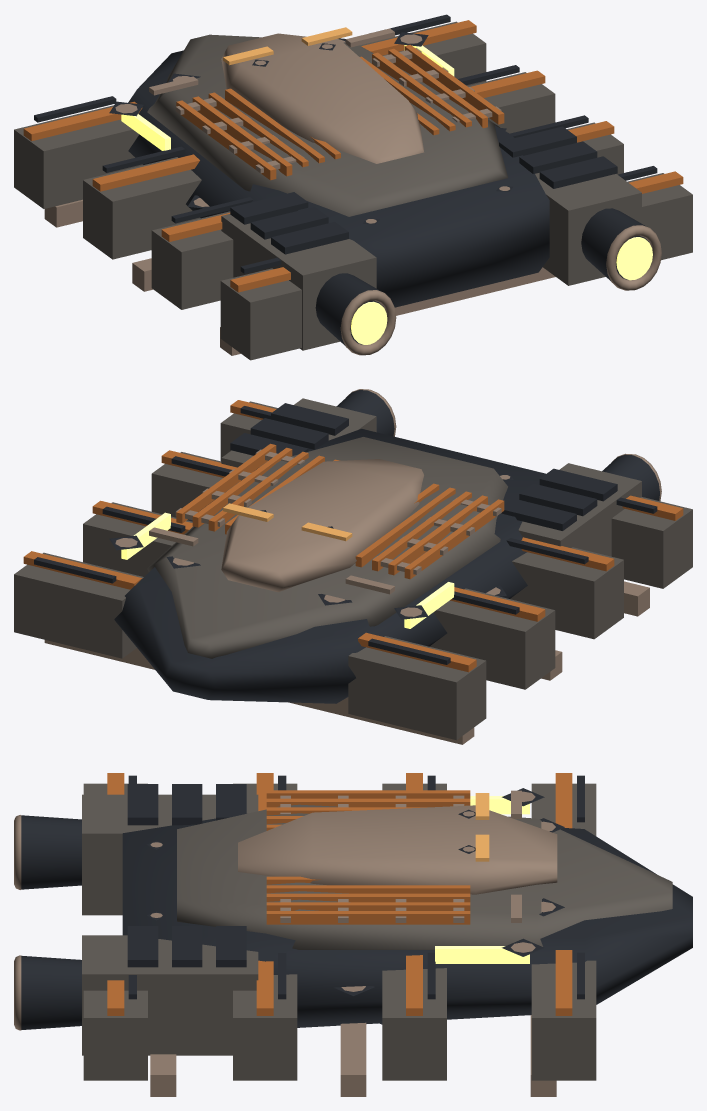
Rendered from compact_high_gravity--bulk_freighter.glb.
3 renders of one model, top to bottom at view 1: azimuth 30°, elevation 25°; view 2: azimuth 150°, elevation 25°; view 3: azimuth 270°, elevation 25°, orthographic. The views are drawn at different scales.
Parts seen in each view (by area): view 1: load_bearing_wedge_1, stepped_main_plate_2, reinforced_command_deck_3, freight_vault_47, freight_vault_50, armored_drive_block_4, armored_drive_block_25, freight_vault_56, freight_vault_53, freight_vault_68, freight_vault_62, freight_vault_59 (+37 smaller); view 2: stepped_main_plate_2, load_bearing_wedge_1, reinforced_command_deck_3, freight_vault_47, freight_vault_59, freight_vault_50, freight_vault_53, freight_vault_56, armored_drive_block_4, freight_vault_62, freight_vault_65, through_hull_load_member_71 (+32 smaller); view 3: load_bearing_wedge_1, stepped_main_plate_2, reinforced_command_deck_3, armored_drive_block_25, freight_vault_59, armored_drive_block_4, freight_vault_62, freight_vault_65, freight_vault_68, engine_shroud_5, engine_shroud_26, deck_load_rib_37 (+26 smaller).
Part boxes in pixels (box(x1,y1,x2,y2)): load_bearing_wedge_1: box(128, 50, 549, 307); stepped_main_plate_2: box(147, 34, 508, 216); reinforced_command_deck_3: box(221, 33, 424, 163); freight_vault_47: box(14, 105, 142, 208); freight_vault_50: box(83, 157, 201, 259); armored_drive_block_4: box(221, 214, 376, 350); armored_drive_block_25: box(535, 172, 641, 285); freight_vault_56: box(220, 268, 301, 360); freight_vault_53: box(151, 211, 233, 309); freight_vault_68: box(627, 173, 692, 260); freight_vault_62: box(451, 72, 555, 133); freight_vault_59: box(360, 21, 486, 89); stepped_main_plate_2: box(147, 437, 507, 658); load_bearing_wedge_1: box(114, 428, 545, 703); reinforced_command_deck_3: box(221, 459, 423, 592); freight_vault_47: box(348, 636, 486, 740); freight_vault_59: box(14, 552, 143, 658); freight_vault_50: box(429, 588, 555, 689); freight_vault_53: box(510, 547, 623, 639); freight_vault_56: box(611, 497, 692, 588); armored_drive_block_4: box(518, 463, 641, 556); freight_vault_62: box(83, 502, 192, 576); freight_vault_65: box(151, 452, 238, 520); through_hull_load_member_71: box(44, 640, 474, 744); load_bearing_wedge_1: box(122, 818, 692, 1027); stepped_main_plate_2: box(177, 804, 672, 949); reinforced_command_deck_3: box(238, 805, 557, 894); armored_drive_block_25: box(82, 935, 258, 1055); freight_vault_59: box(531, 960, 596, 1080); armored_drive_block_4: box(82, 794, 258, 915); freight_vault_62: box(382, 968, 446, 1080); freight_vault_65: box(233, 974, 297, 1080); freight_vault_68: box(83, 990, 147, 1080); engine_shroud_5: box(21, 815, 81, 889); engine_shroud_26: box(21, 955, 81, 1029); deck_load_rib_37: box(266, 911, 470, 924).
Bounding box in the file's own units: 320 × 102 × 390.
